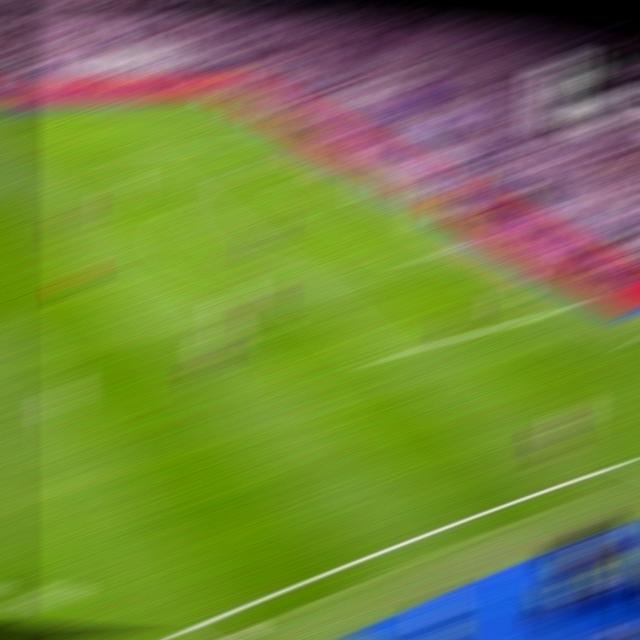bigarea_bottom_inner: (364, 349, 394, 366)
bigarea_bottom_outter: (561, 300, 590, 310)
bigarea_top_inner: (113, 151, 138, 157)
bigarea_top_outter: (265, 134, 290, 137)
bottom_arc_area_intersection: (258, 268, 284, 276)
corner: (202, 97, 229, 100)
smallarea_bottom_inner: (401, 253, 427, 262)
smallarea_top_inner: (280, 178, 303, 181)
top_arc_area_intersection: (170, 197, 199, 206)
